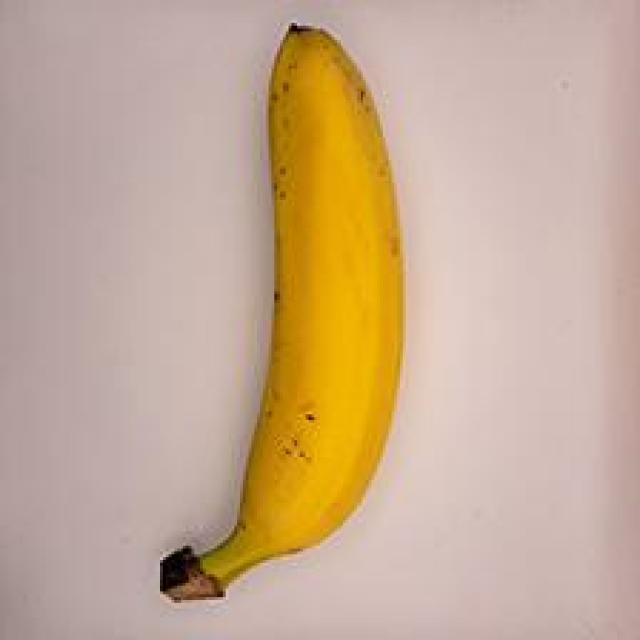Ripe: (87, 6, 446, 640)
